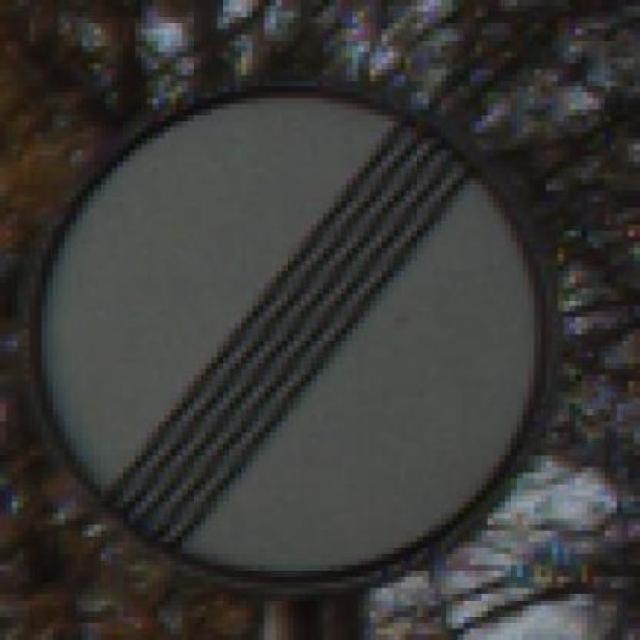End of all speed and passing limits: (24, 63, 564, 594)
